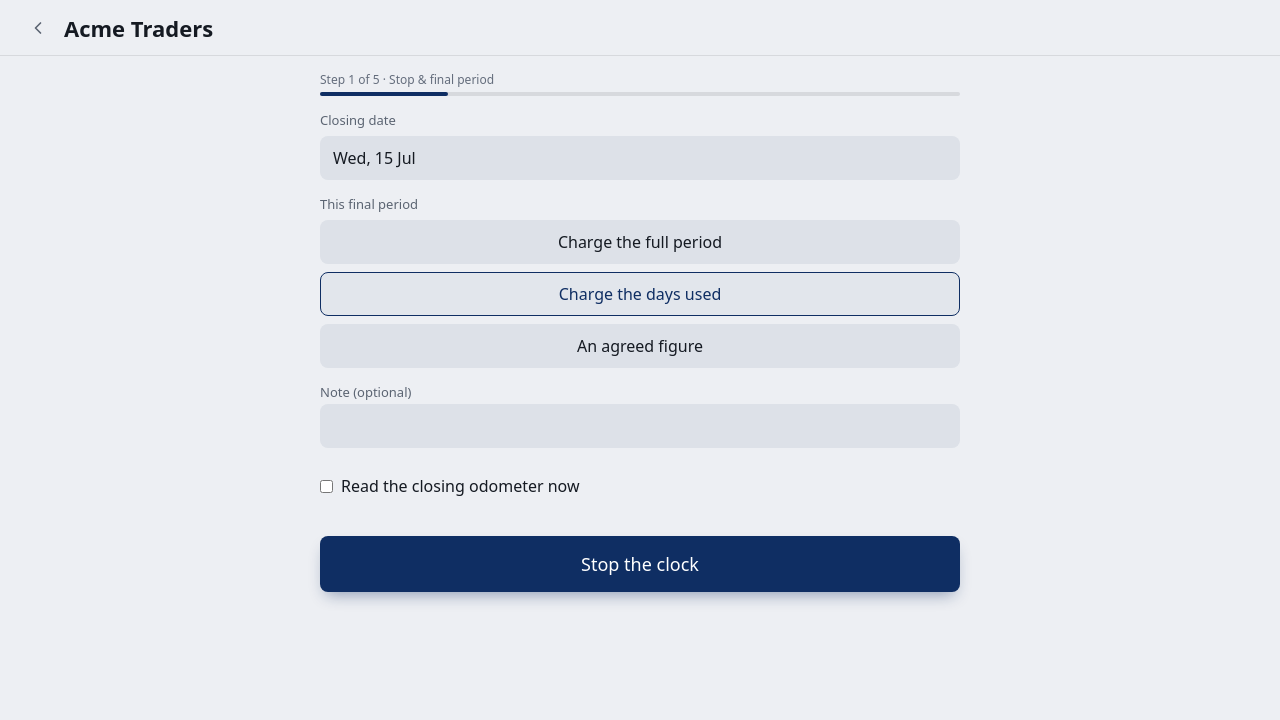
GAP-140: an unpaid due's row shows what's still outstanding, not the original gross amount, and trip_fare gets a real label
Click the button "Stop the clock".
click(640, 564)  # box 320,536 -> 960,592
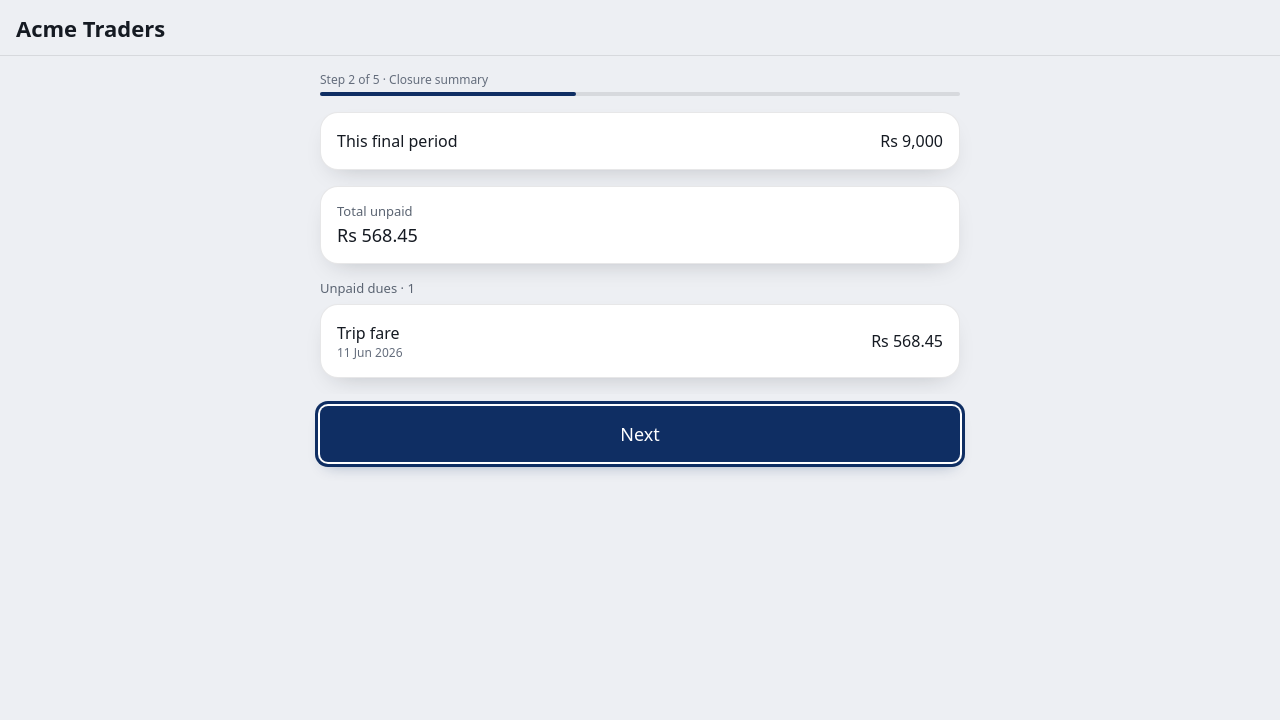
Now the text "Trip fare" is shown, box 337,321 -> 402,345
Now the text "Rs 568.45" is shown 2 times, box 337,223 -> 418,247; 871,329 -> 943,353
